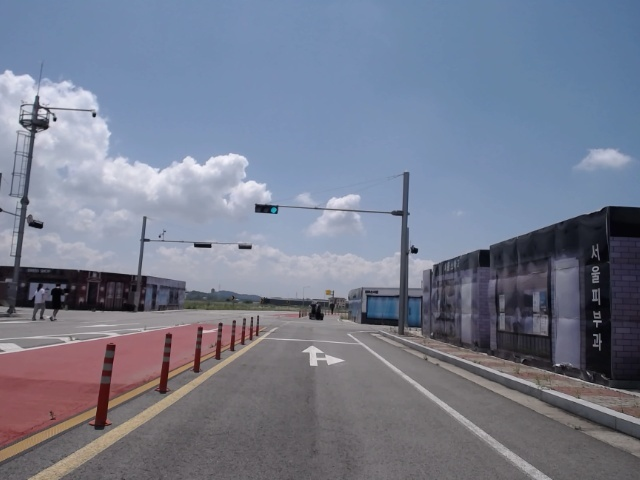green_3: (255, 205, 278, 213)
